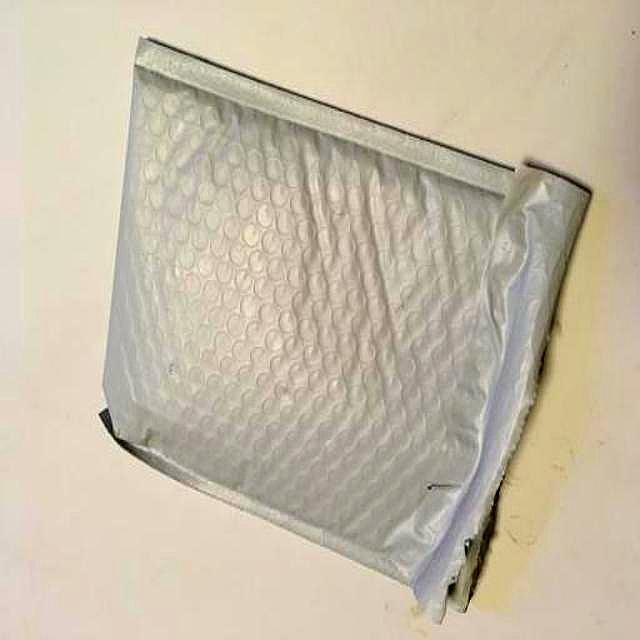Non-biodegradable: (97, 34, 594, 625)
